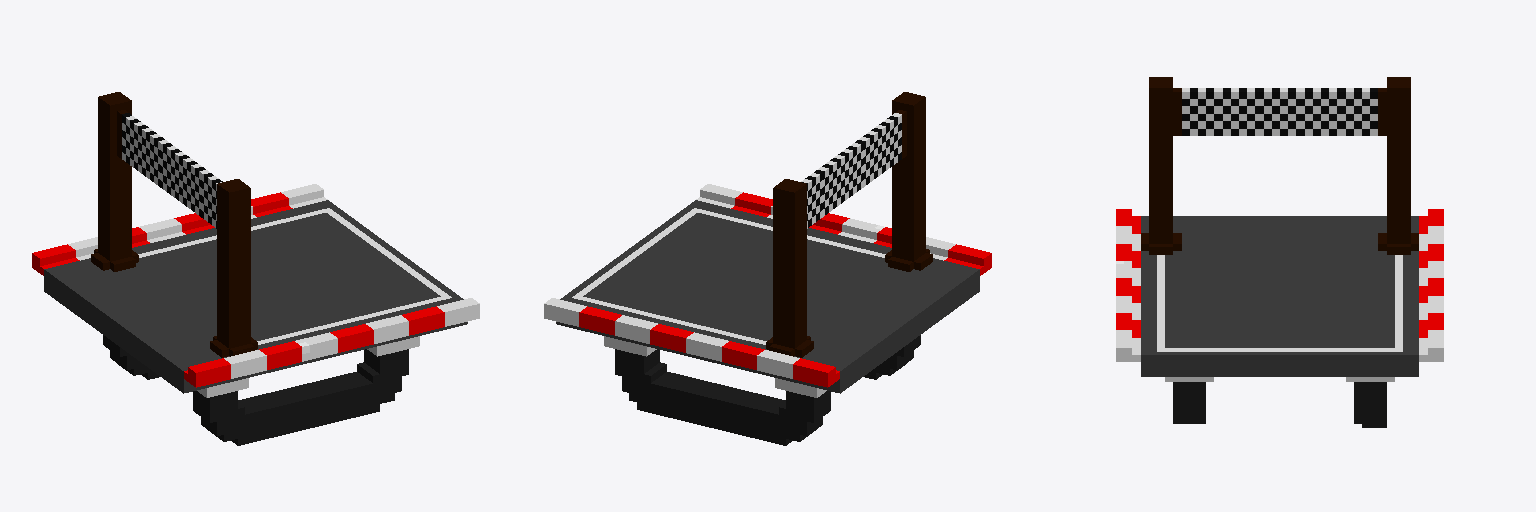
3 renders of one model, left to right at view 1: azimuth 30°, elevation 25°; view 2: azimuth 150°, elevation 25°; view 3: azimuth 270°, elevation 25°, orthographic.
Visible parts, largest first — view 1: object 1; view 2: object 1; view 3: object 1.
Part boxes in pixels (x1,y1,x2,y2): object 1: (32,92,479,445); object 1: (544,92,991,445); object 1: (1116,77,1443,427).
Bounding box in the file's own units: 4 × 3.6 × 4.
1 materials, 1 textured.